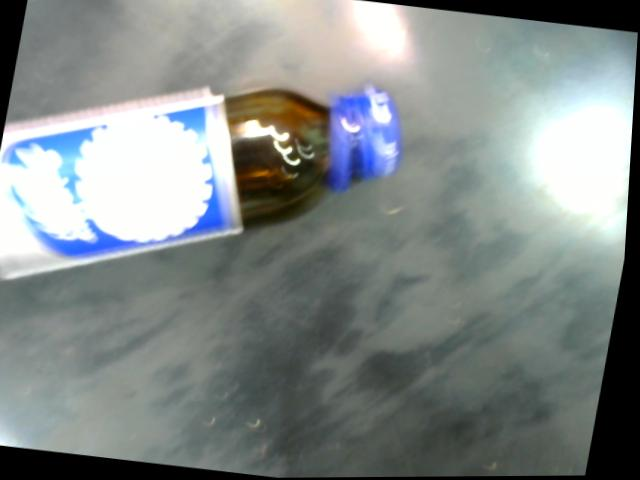glass: (0, 82, 407, 285)
